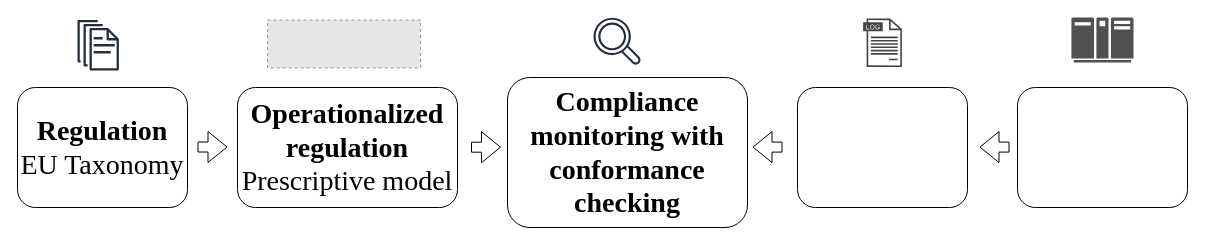
This 1205x245 diagram has some shape labels left out. Grey dashed boxes stand in for pictures. Here are the shapes that lost their labels. From the top down, the centre of each, then its label:
(x=882, y=147): Process data Event log
(x=1102, y=147): Process execution
